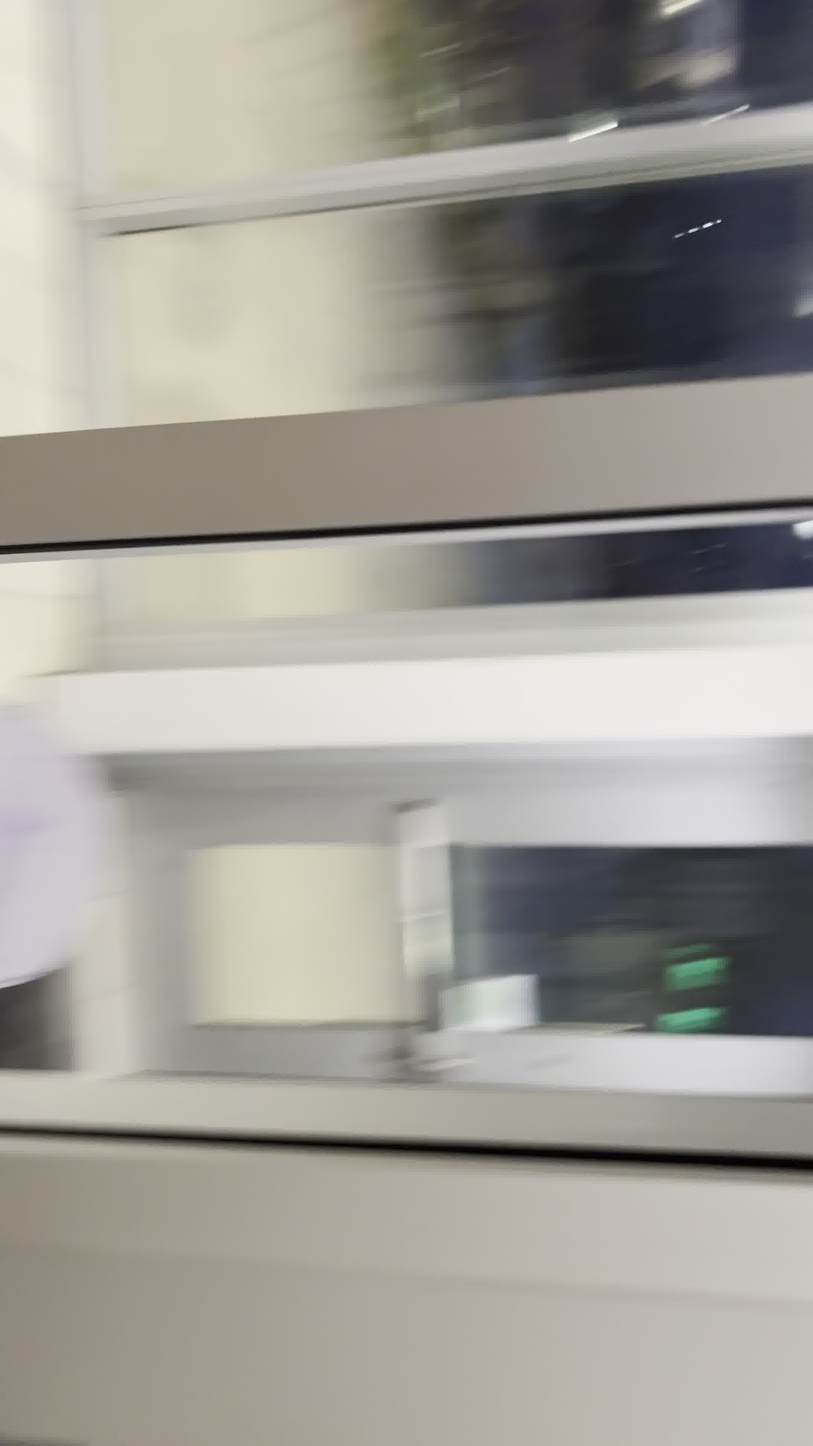Target: (0, 707, 108, 981)
